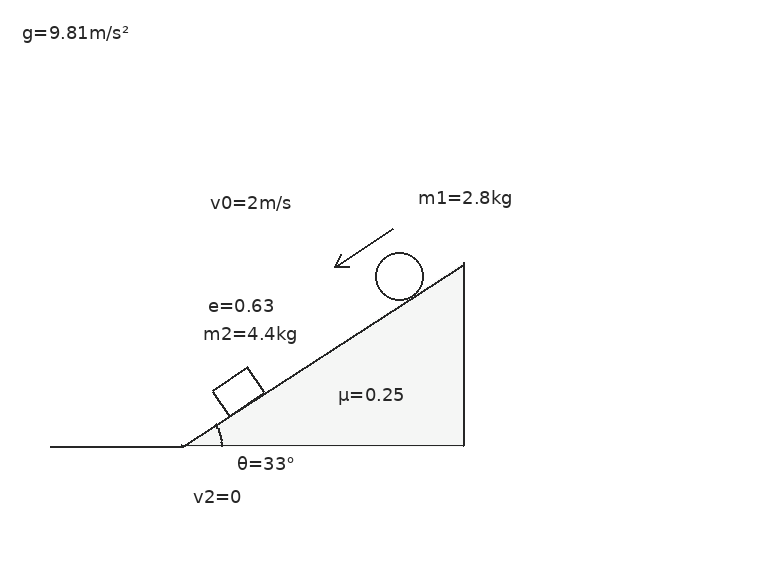ball: (373, 251, 425, 303)
block: (210, 365, 266, 418)
ramp: (180, 262, 465, 448)
